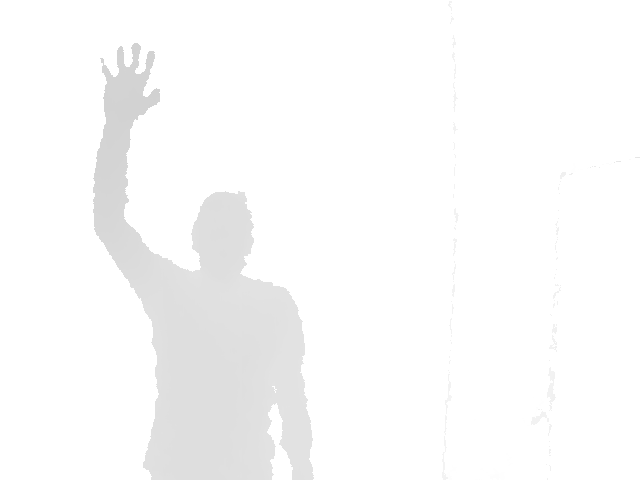hand: (98, 42, 162, 121)
head: (190, 190, 255, 278)
person: (91, 42, 317, 479)
